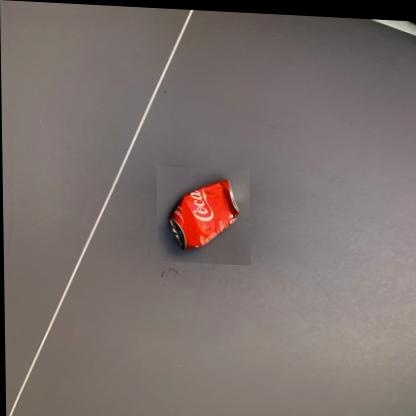trash: (169, 179, 238, 248)
